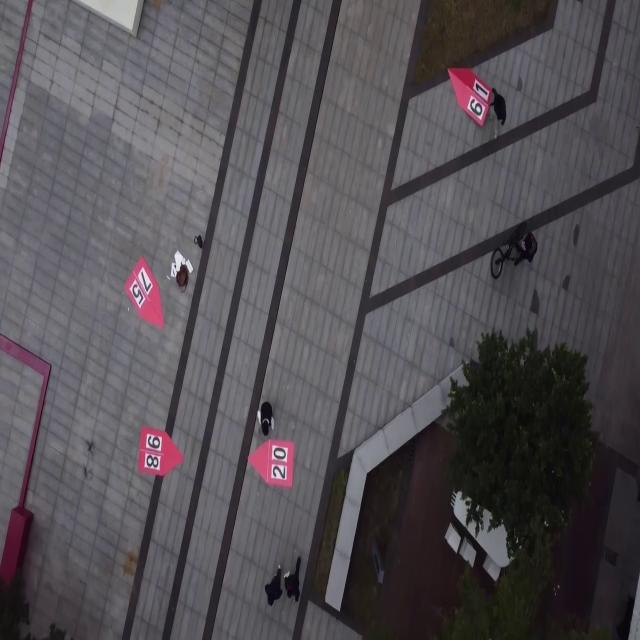-sign-: (120, 249, 172, 346), (240, 433, 304, 497), (446, 60, 498, 133), (134, 425, 190, 481)
